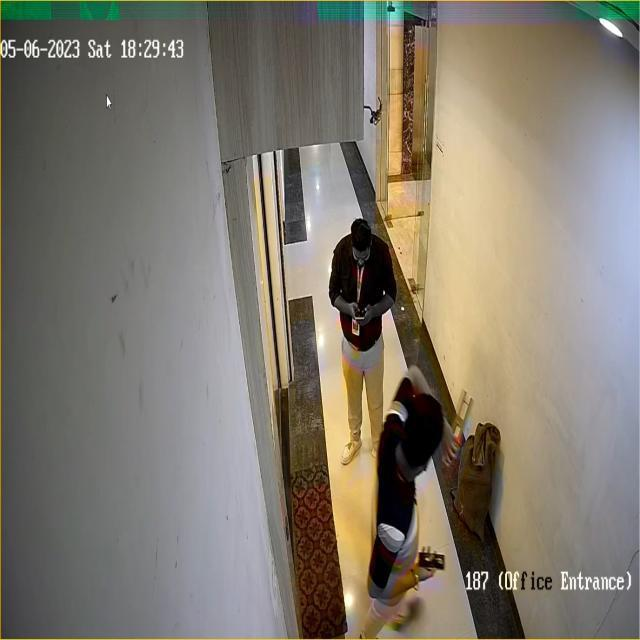gunny_bag: (452, 424, 502, 546)
